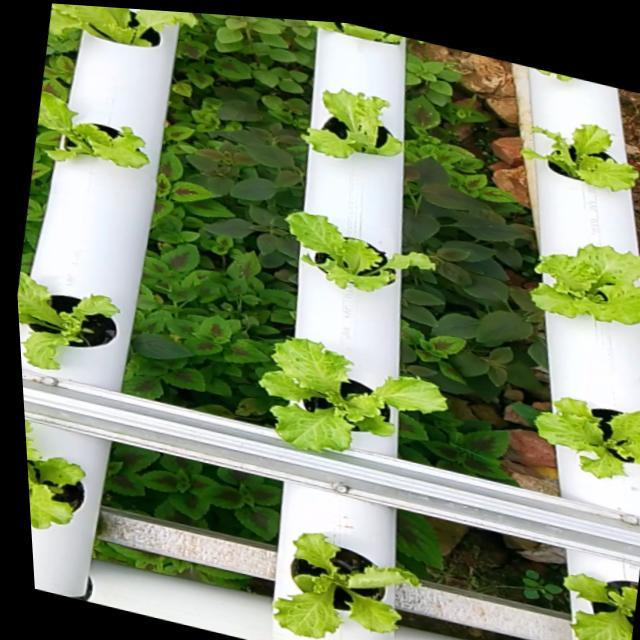Baby: (265, 339, 450, 450), (281, 531, 426, 635), (289, 214, 437, 293), (17, 269, 127, 372), (36, 92, 155, 172), (530, 245, 640, 325), (536, 396, 640, 476), (521, 127, 637, 193), (25, 418, 95, 527), (48, 3, 198, 52), (304, 93, 405, 161), (568, 570, 638, 640)
